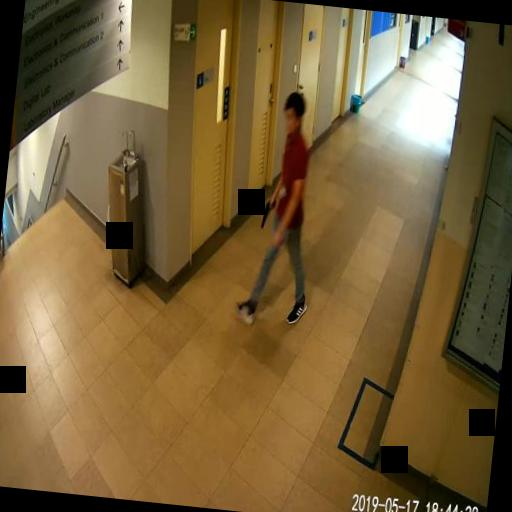Handgun: (260, 194, 276, 228)
